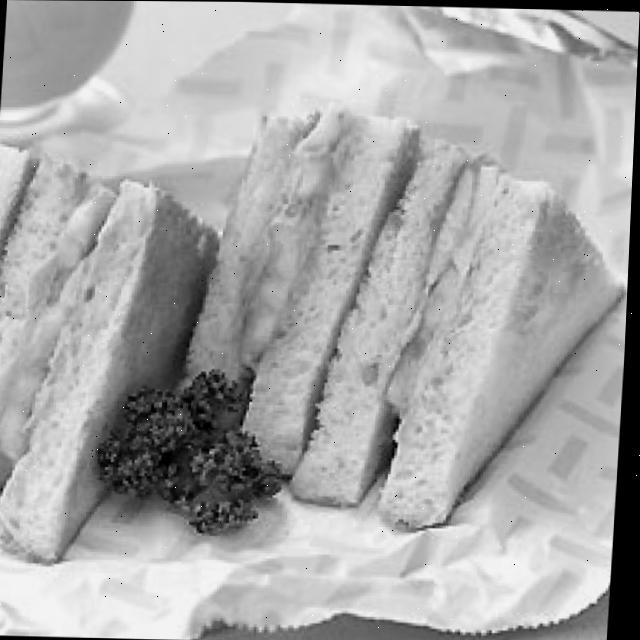三明治: (0, 95, 637, 570)
